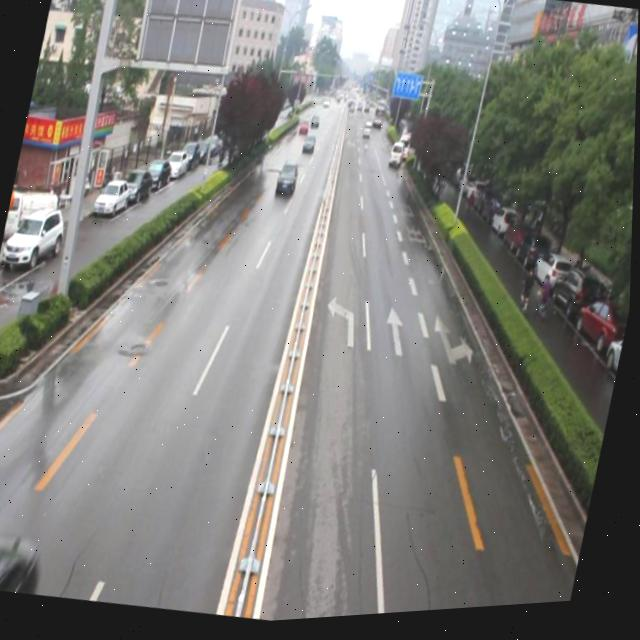car: (0, 519, 51, 598), (274, 161, 301, 199), (299, 134, 318, 160)
truck: (387, 144, 405, 172)
